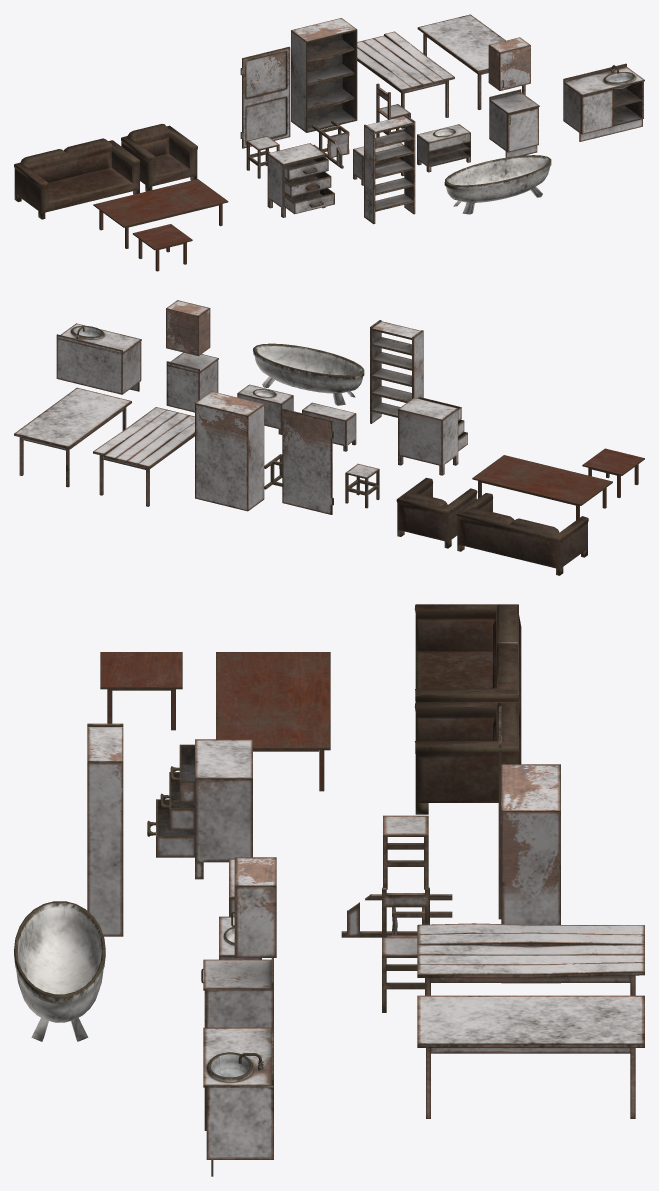
File: dirty_furniture.glb
3 renders of one model, top to bottom at view 1: azimuth 30°, elevation 25°; view 2: azimuth 150°, elevation 25°; view 3: azimuth 270°, elevation 25°, orthographic. The views are drawn at different scales.
Visible parts, largest first — view 1: Cube.001, Cube.008, Cube.003, Cube.019, Cylinder.001, Countertop1.001, Cube.010, Cube.002, Cube.009, Cube.006, Cube.015, Countertop1 (+13 smaller); view 2: Cube.001, Cube.008, Cube.003, Countertop1.001, Cube.006, Cylinder.001, Cube.002, Cube.019, Cube.010, Cube, Cube.009, Countertop1 (+5 smaller); view 3: Cube.006, Cube.002, Cube.010, Cube.008, Cube.009, Cube.001, Cylinder.001, Countertop1.001, Cube.019, Cube, Countertop1, Cabinet1 (+8 smaller).
Part boxes in pixels (x1=…): Cube.001: x1=291, y1=18, x2=357, y2=132; Cube.008: x1=14, y1=138, x2=140, y2=219; Cube.003: x1=240, y1=46, x2=290, y2=148; Cube.019: x1=364, y1=114, x2=415, y2=224; Cylinder.001: x1=444, y1=155, x2=551, y2=214; Countertop1.001: x1=563, y1=63, x2=644, y2=141; Cube.010: x1=93, y1=179, x2=228, y2=248; Cube.002: x1=357, y1=31, x2=454, y2=128; Cube.009: x1=121, y1=124, x2=197, y2=191; Cube.006: x1=417, y1=14, x2=525, y2=109; Cube.015: x1=417, y1=124, x2=470, y2=172; Countertop1: x1=489, y1=89, x2=539, y2=157; Cube.001: x1=195, y1=391, x2=264, y2=511; Cube.008: x1=456, y1=493, x2=588, y2=575; Cube.003: x1=282, y1=408, x2=333, y2=514; Countertop1.001: x1=56, y1=323, x2=141, y2=394; Cube.006: x1=14, y1=387, x2=131, y2=487; Cylinder.001: x1=253, y1=343, x2=364, y2=405; Cube.002: x1=93, y1=407, x2=194, y2=506; Cube.019: x1=370, y1=320, x2=423, y2=423; Cube.010: x1=472, y1=455, x2=612, y2=520; Cube: x1=398, y1=397, x2=458, y2=475; Cube.009: x1=396, y1=477, x2=477, y2=548; Countertop1: x1=166, y1=352, x2=218, y2=412; Cube.006: x1=417, y1=995, x2=644, y2=1118; Cube.002: x1=417, y1=923, x2=644, y2=995; Cube.010: x1=216, y1=652, x2=330, y2=791; Cube.008: x1=414, y1=604, x2=521, y2=723; Cube.009: x1=414, y1=702, x2=521, y2=814; Cube.001: x1=501, y1=764, x2=560, y2=983; Cylinder.001: x1=14, y1=901, x2=105, y2=1041; Countertop1.001: x1=203, y1=1022, x2=273, y2=1176; Cube.019: x1=87, y1=723, x2=123, y2=936; Cube: x1=195, y1=739, x2=252, y2=879; Countertop1: x1=203, y1=958, x2=273, y2=1027; Cabinet1: x1=237, y1=857, x2=276, y2=957.
Size of the model in its own units: 10.47 by 1.96 by 5.54.
Materials: 1 (1 with a texture image).
